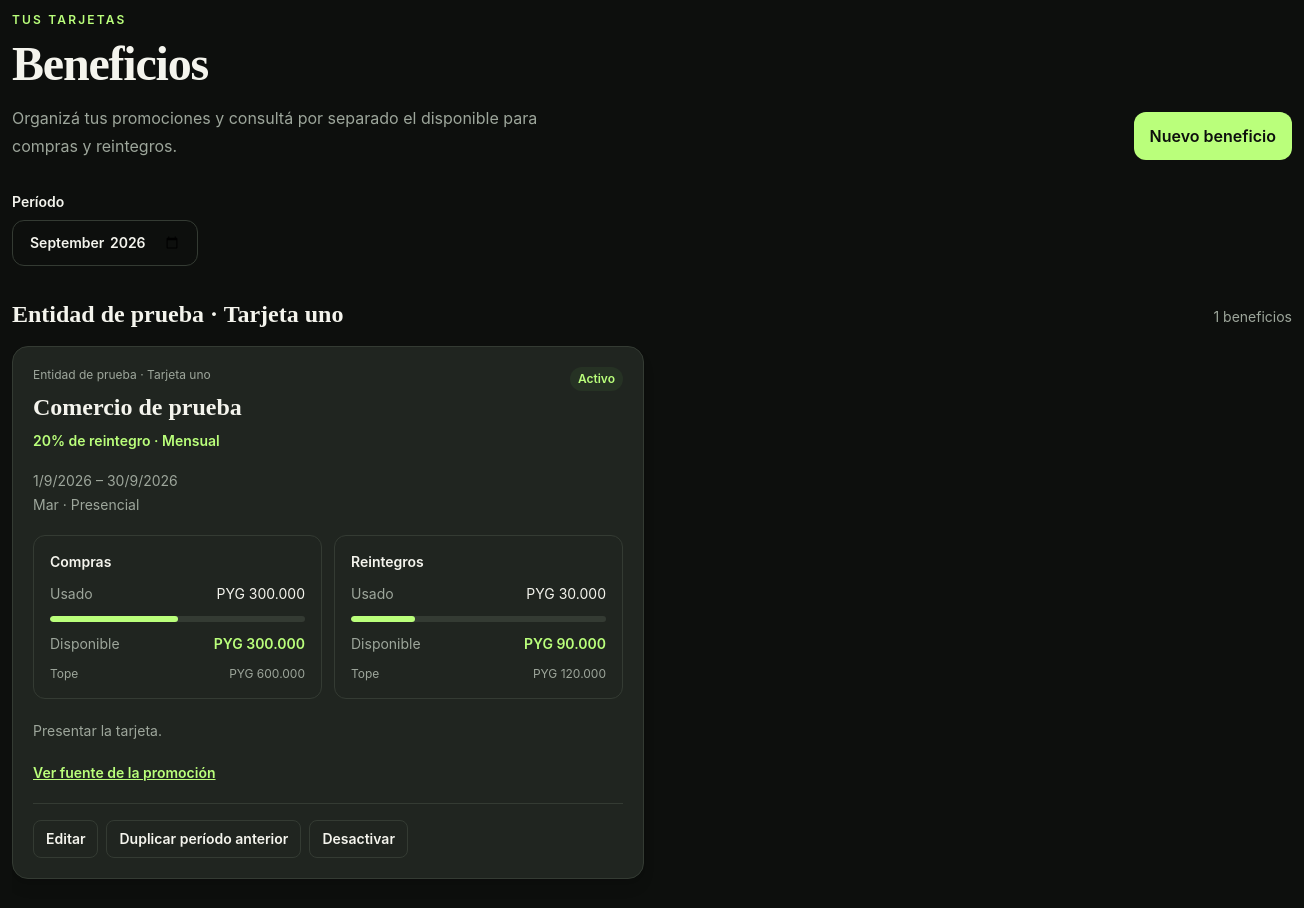
it: BenefitsContent › rejects reversed duplicate dates before invoking the provider
Click the button "Duplicar período anterior" at (204, 839), box left=106, top=820, right=301, bottom=858
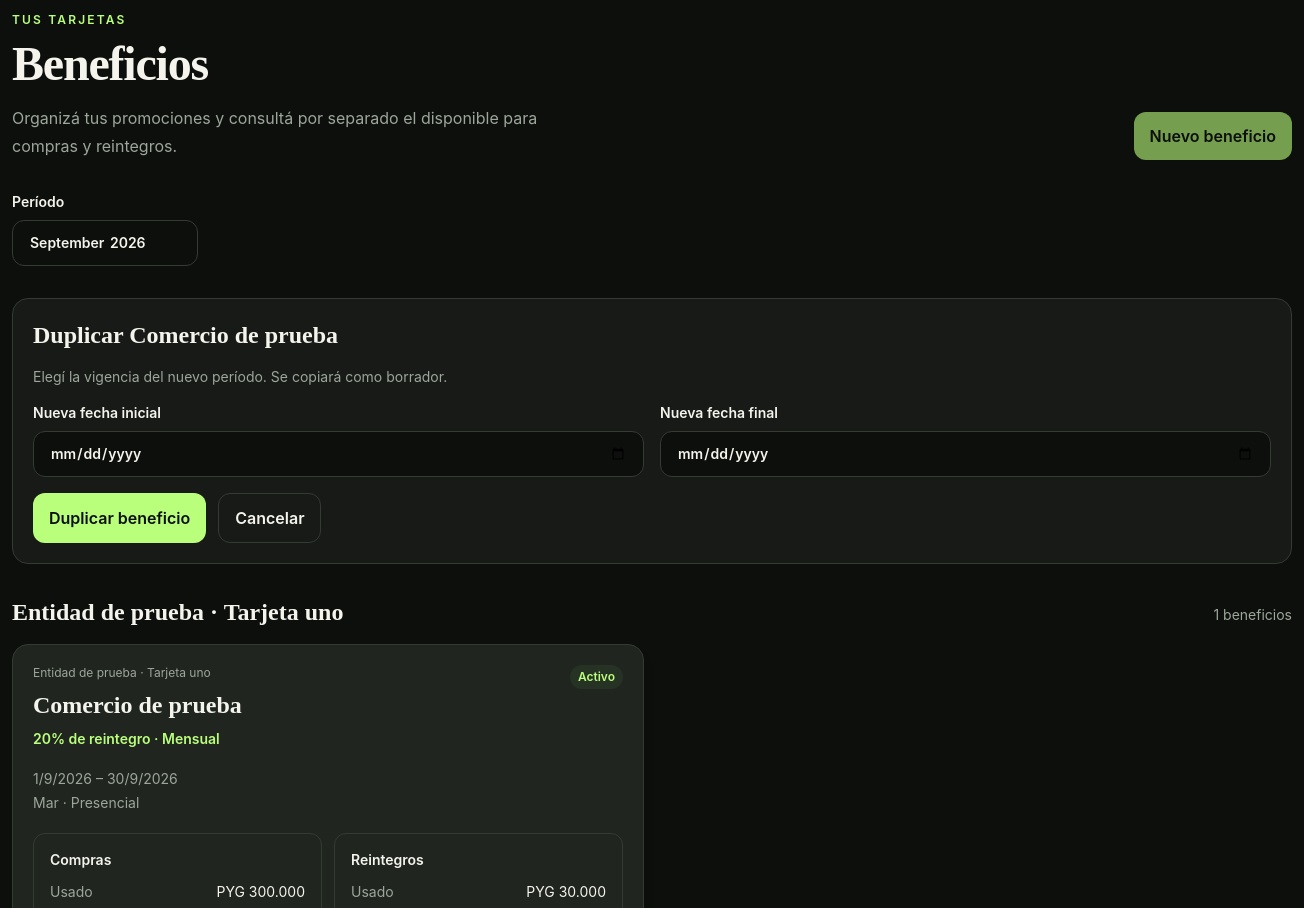
Type "2026-10-31" into the date field labelled "Nueva fecha inicial" at (338, 454), box left=33, top=431, right=644, bottom=477
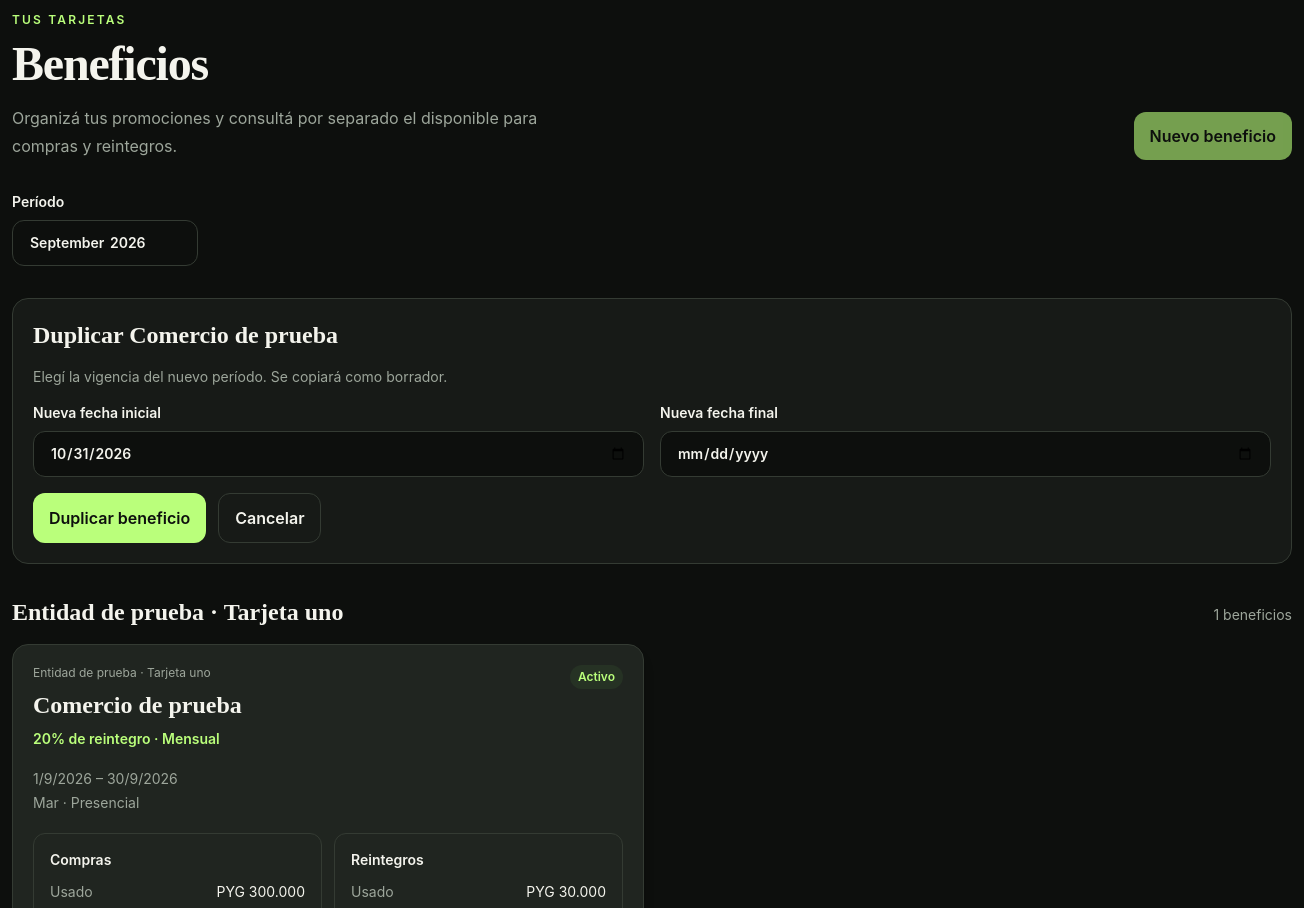
Type "2026-10-01" into the date field labelled "Nueva fecha final" at (966, 454), box left=660, top=431, right=1271, bottom=477
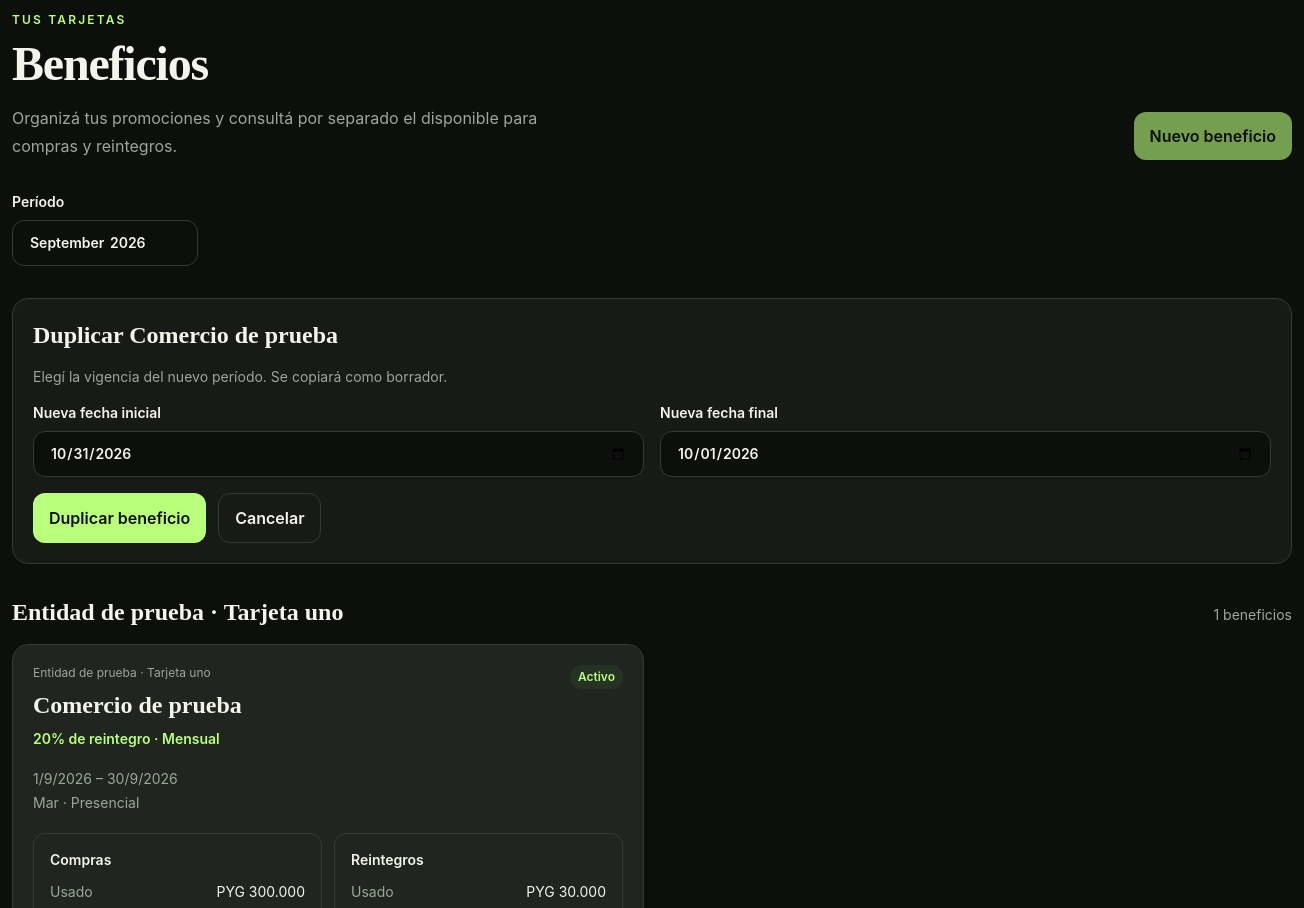
Submit the form named "Duplicar beneficio", box left=12, top=298, right=1292, bottom=564
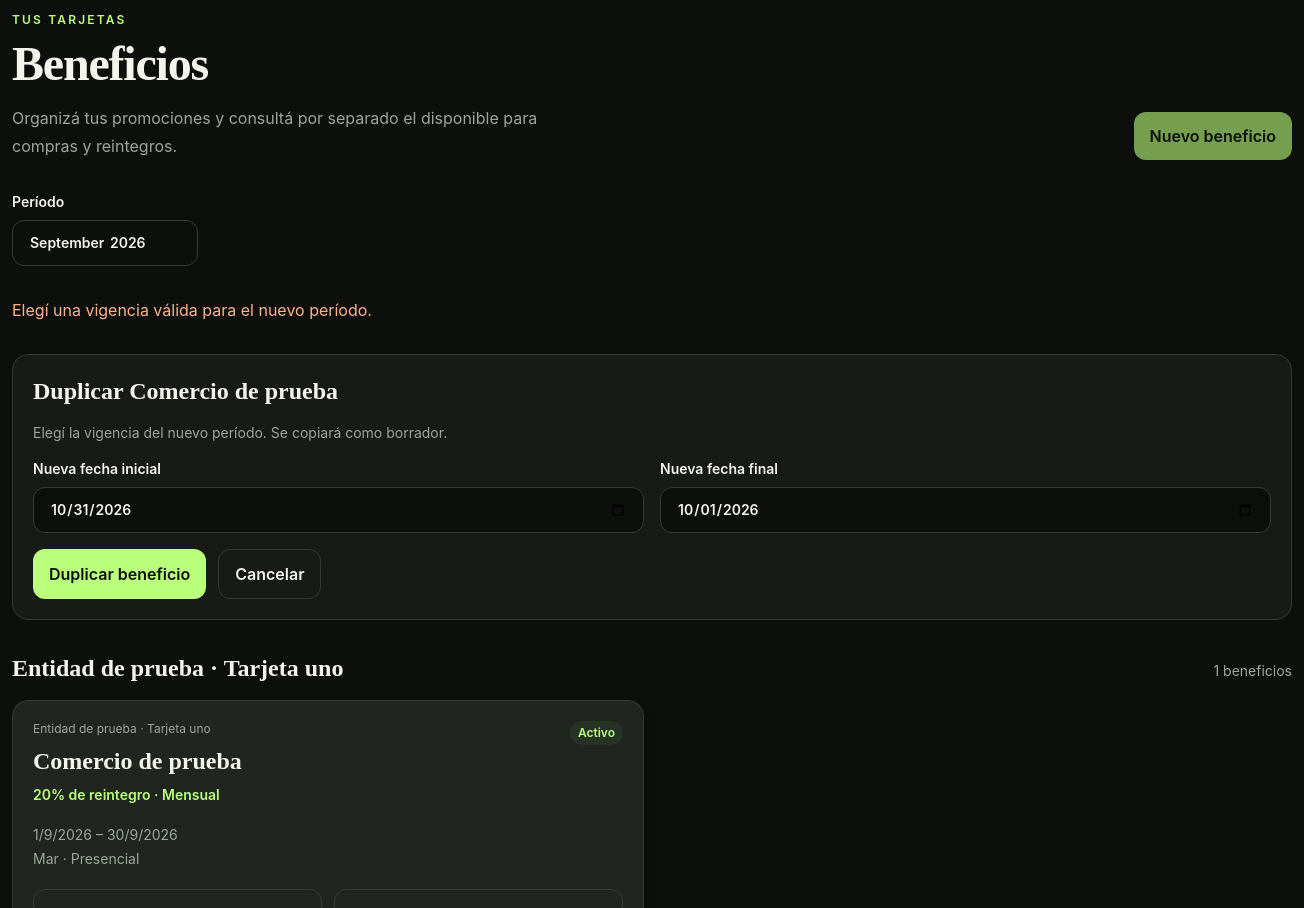
expect the message shows "Elegí una vigencia válida": met, box left=12, top=300, right=372, bottom=320
